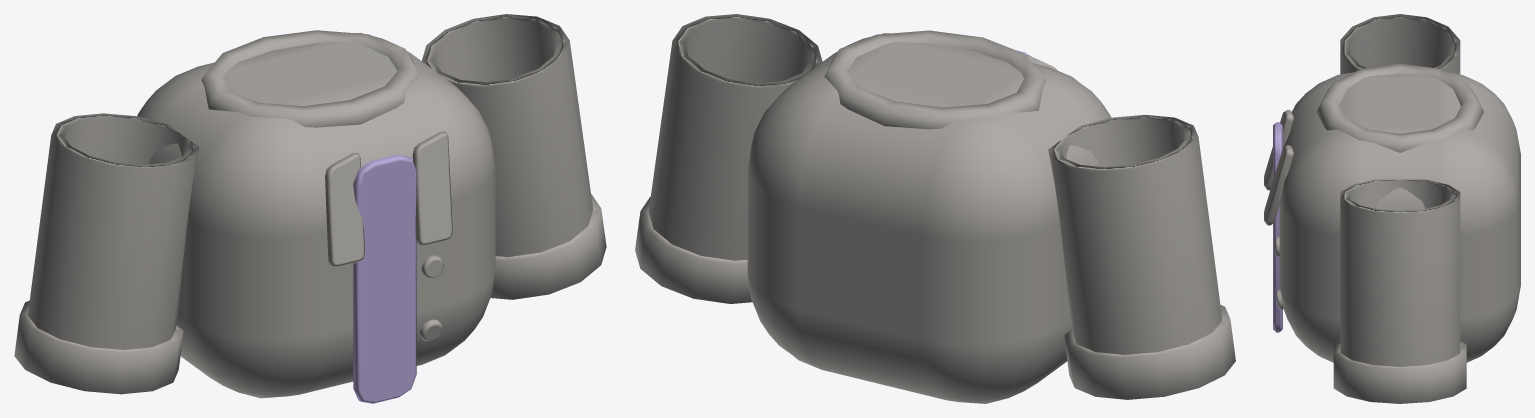
The model's file is business_suitcoat.glb.
3 renders of one model, left to right at view 1: azimuth 30°, elevation 25°; view 2: azimuth 150°, elevation 25°; view 3: azimuth 270°, elevation 25°, orthographic. The views are drawn at different scales.
Parts seen in each view (by area): view 1: business_suitcoat_Body, business_suitcoat_ArmL, business_suitcoat_ArmR; view 2: business_suitcoat_Body, business_suitcoat_ArmL, business_suitcoat_ArmR; view 3: business_suitcoat_Body, business_suitcoat_ArmR, business_suitcoat_ArmL.
Boxes of the visible parts, box(x1,y1,x2,y2) form: business_suitcoat_Body: box(137, 30, 495, 403); business_suitcoat_ArmL: box(14, 113, 199, 394); business_suitcoat_ArmR: box(422, 14, 606, 299); business_suitcoat_Body: box(747, 30, 1111, 403); business_suitcoat_ArmL: box(1048, 114, 1235, 399); business_suitcoat_ArmR: box(635, 14, 822, 303); business_suitcoat_Body: box(1264, 63, 1520, 362); business_suitcoat_ArmR: box(1333, 179, 1466, 403); business_suitcoat_ArmL: box(1340, 14, 1460, 74).
Size of the model in its own units: 0.6504 by 0.3119 by 0.3085.
